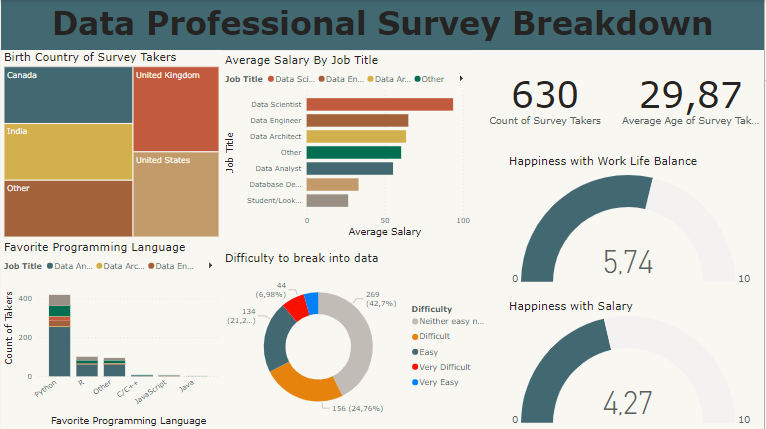

The page's visual inventory and layout, read from the dashboard file:
{"tool":"powerbi","page":{"name":"Page 1","canvas":[1280,720],"ordinal":0},"visuals":[{"type":"textbox","box":[0,0,1280,83.9],"z":0},{"type":"card","fields":{"Values":["CountNonNull(Data Professional Survey.Unique ID)"]},"box":[791.8,83.9,241.6,162.7],"z":1},{"type":"card","fields":{"Values":["Avg(Data Professional Survey.Q10 - Current Age)"]},"box":[1033.4,83.9,246.6,162.7],"z":2},{"type":"barChart","title":"Average Salary By Job Title","fields":{"Category":["Data Professional Survey.Q1 - Which Title Best Fits your Current Role?.1"],"Y":["Avg(Data Professional Survey.Average Salary)"],"Series":["Data Professional Survey.Q1 - Which Title Best Fits your Current Role?.1"]},"box":[370.7,88.9,421.1,313.7],"z":3},{"type":"columnChart","title":"Favorite Programming Language","fields":{"Category":["Data Professional Survey.Q5 - Favorite Programming Language.1"],"Y":["CountNonNull(Data Professional Survey.Unique ID)"],"Series":["Data Professional Survey.Q1 - Which Title Best Fits your Current Role?.1"]},"box":[0,402.6,370.7,317.1],"z":4},{"type":"treemap","title":"Birth Country of Survey Takers","fields":{"Group":["Data Professional Survey.Q11 - Which Country do you live in?.1"],"Values":["Count(Data Professional Survey.Q11 - Which Country do you live in?.1)"]},"box":[0,83.9,370.7,318.7],"z":5},{"type":"gauge","title":"Happiness with Work Life Balance","fields":{"Y":["Avg(Data Professional Survey.Q6 - How Happy are you in your Current Position with the following? (Work/Life Balance))"],"MinValue":["Min(Data Professional Survey.Q6 - How Happy are you in your Current Position with the following? (Work/Life Balance))1"],"MaxValue":["Max(Data Professional Survey.Q6 - How Happy are you in your Current Position with the following? (Work/Life Balance))2"]},"box":[847.2,258.3,419.4,231.5],"z":6},{"type":"gauge","title":"Happiness with Salary","fields":{"Y":["Avg(Data Professional Survey.Q6 - How Happy are you in your Current Position with the following? (Salary))"],"MinValue":["Min(Data Professional Survey.Q6 - How Happy are you in your Current Position with the following? (Salary))1"],"MaxValue":["Max(Data Professional Survey.Q6 - How Happy are you in your Current Position with the following? (Salary))2"]},"box":[847.2,501.6,419.4,218.1],"z":7},{"type":"donutChart","title":"Difficulty to break into data","fields":{"Category":["Data Professional Survey.Q7 - How difficult was it for you to break into Data?"],"Y":["CountNonNull(Data Professional Survey.Q7 - How difficult was it for you to break into Data?)"]},"box":[370.7,421.1,458,298.6],"z":8}]}

Visuals, with their boxes in screenshot pixels (x1, y1, x2, y2), scaled from the page's 1280x720 canvas onto the 766x429 screenshot:
textbox: {"left": 0, "top": 0, "right": 765, "bottom": 50}
card - CountNonNull(Data Professional Survey.Unique ID): {"left": 474, "top": 50, "right": 618, "bottom": 147}
card - Avg(Data Professional Survey.Q10 - Current Age): {"left": 618, "top": 50, "right": 765, "bottom": 147}
"Average Salary By Job Title" barChart: {"left": 222, "top": 53, "right": 474, "bottom": 240}
"Favorite Programming Language" columnChart: {"left": 0, "top": 240, "right": 222, "bottom": 428}
"Birth Country of Survey Takers" treemap: {"left": 0, "top": 50, "right": 222, "bottom": 240}
"Happiness with Work Life Balance" gauge: {"left": 507, "top": 154, "right": 758, "bottom": 292}
"Happiness with Salary" gauge: {"left": 507, "top": 299, "right": 758, "bottom": 428}
"Difficulty to break into data" donutChart: {"left": 222, "top": 251, "right": 496, "bottom": 428}
